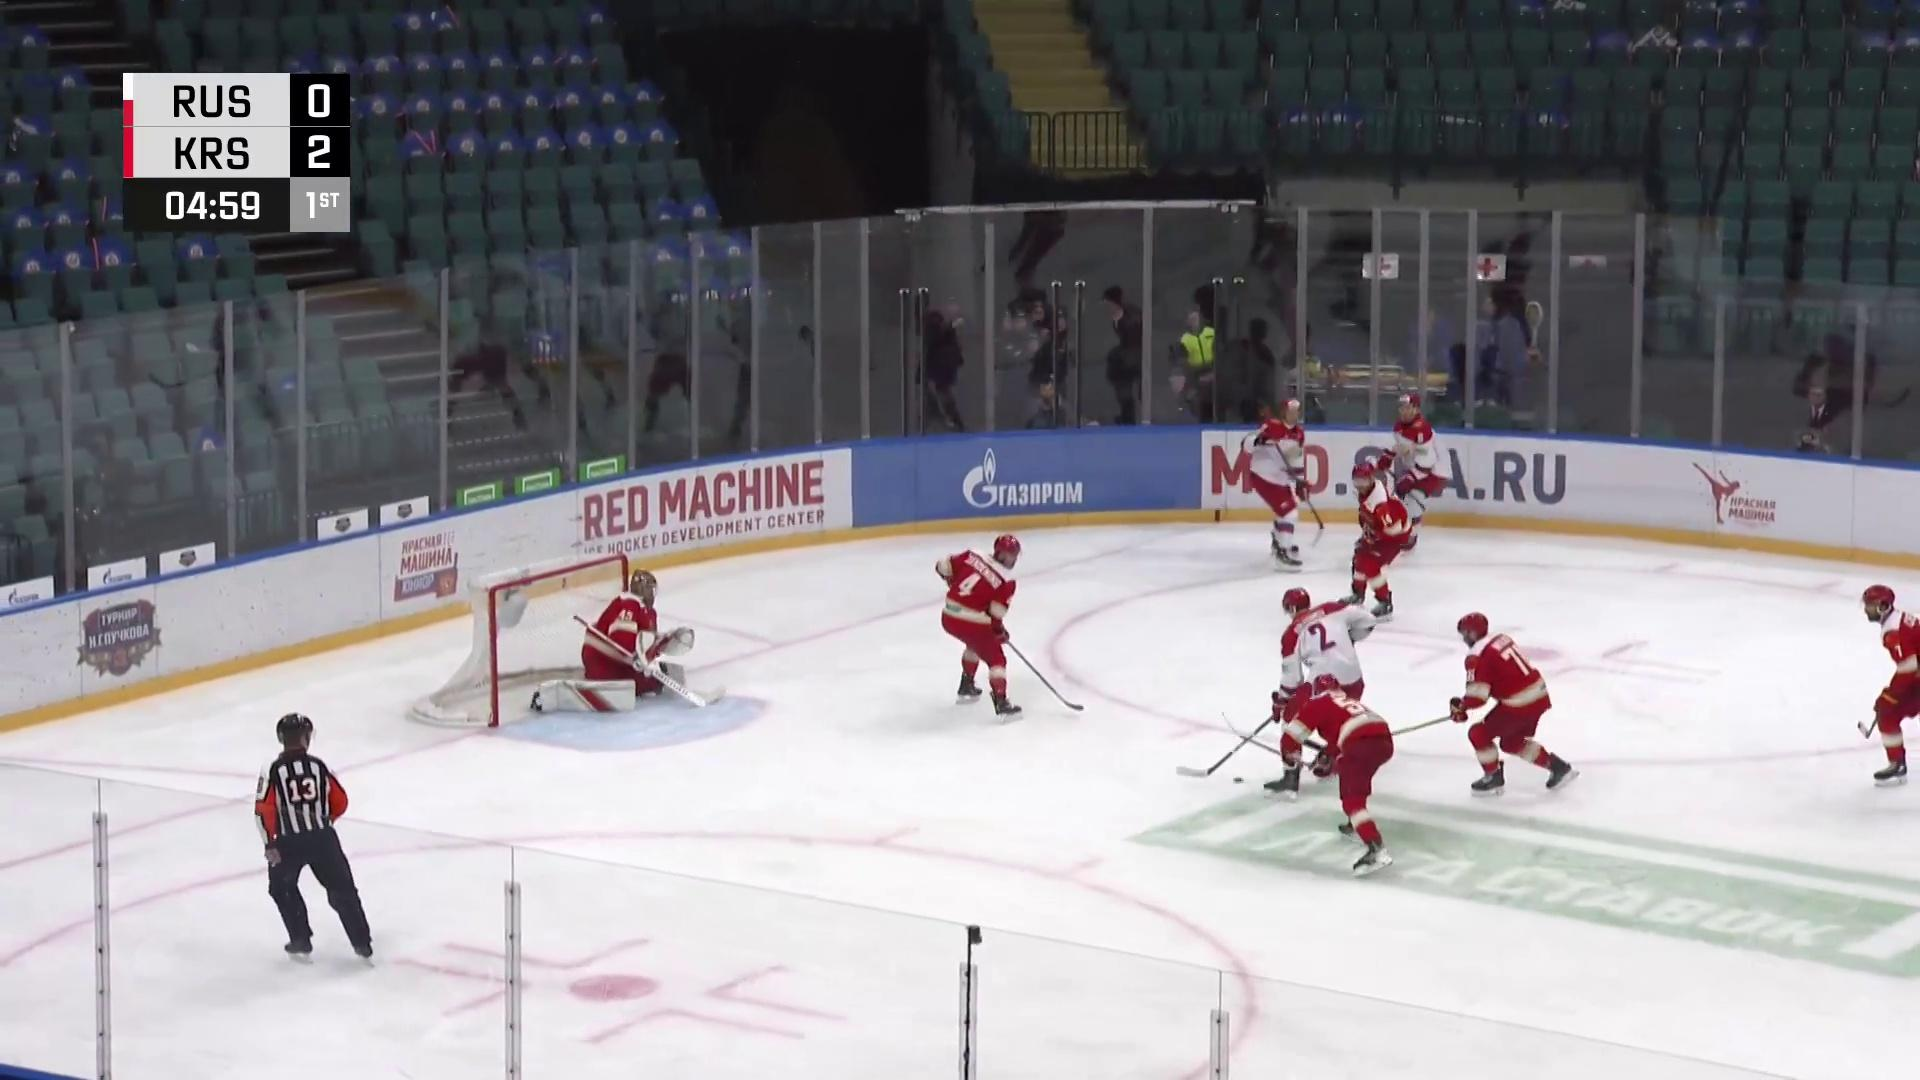ball: (1230, 774, 1246, 786)
